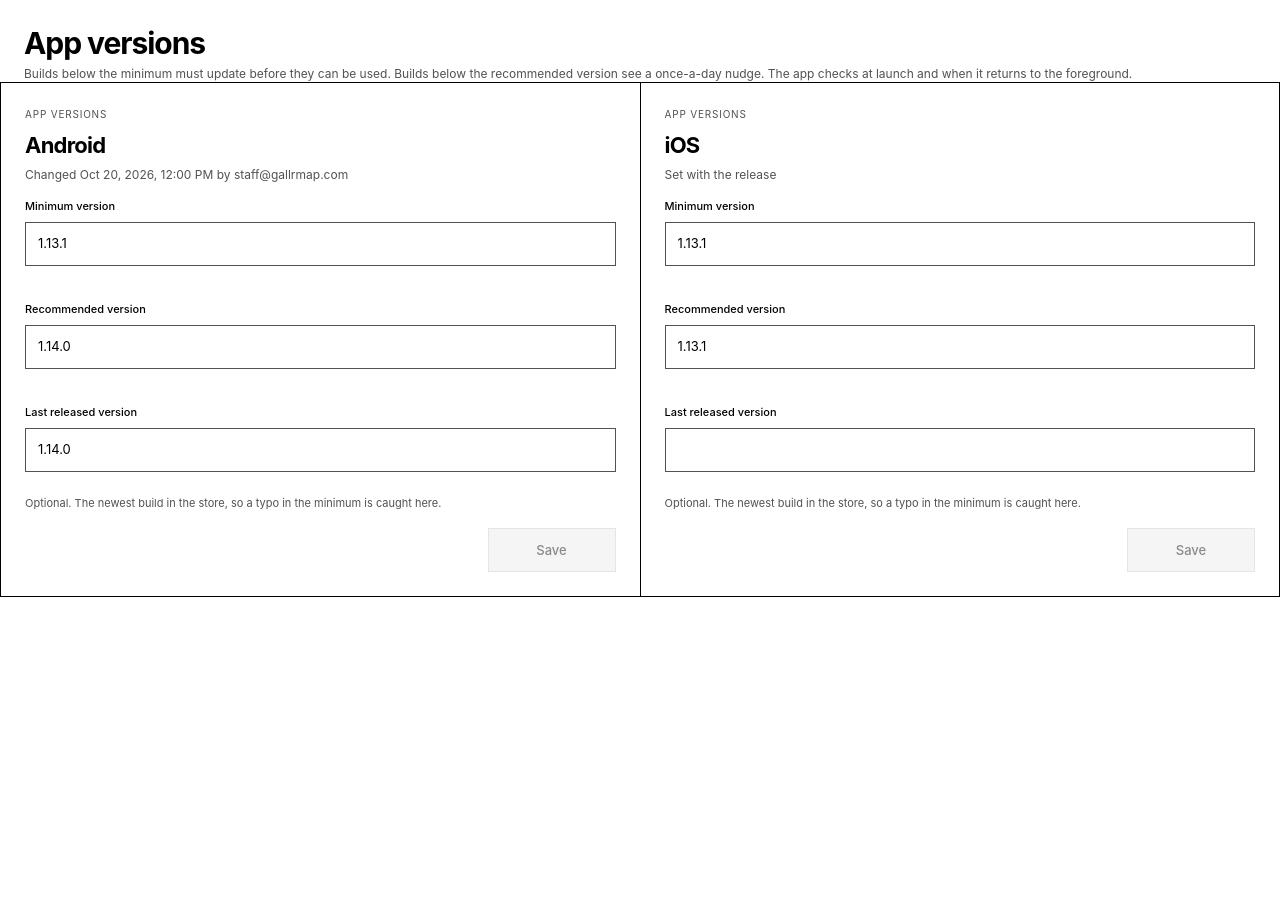
it: AppVersionsWorkspace › shows the server's refusal and keeps the typed values
This screenshot has width=1280, height=900.
Replace the text in the field labelled "Recommended version" below "Android" with "1.16.0": (320, 347) [25,325,616,369]
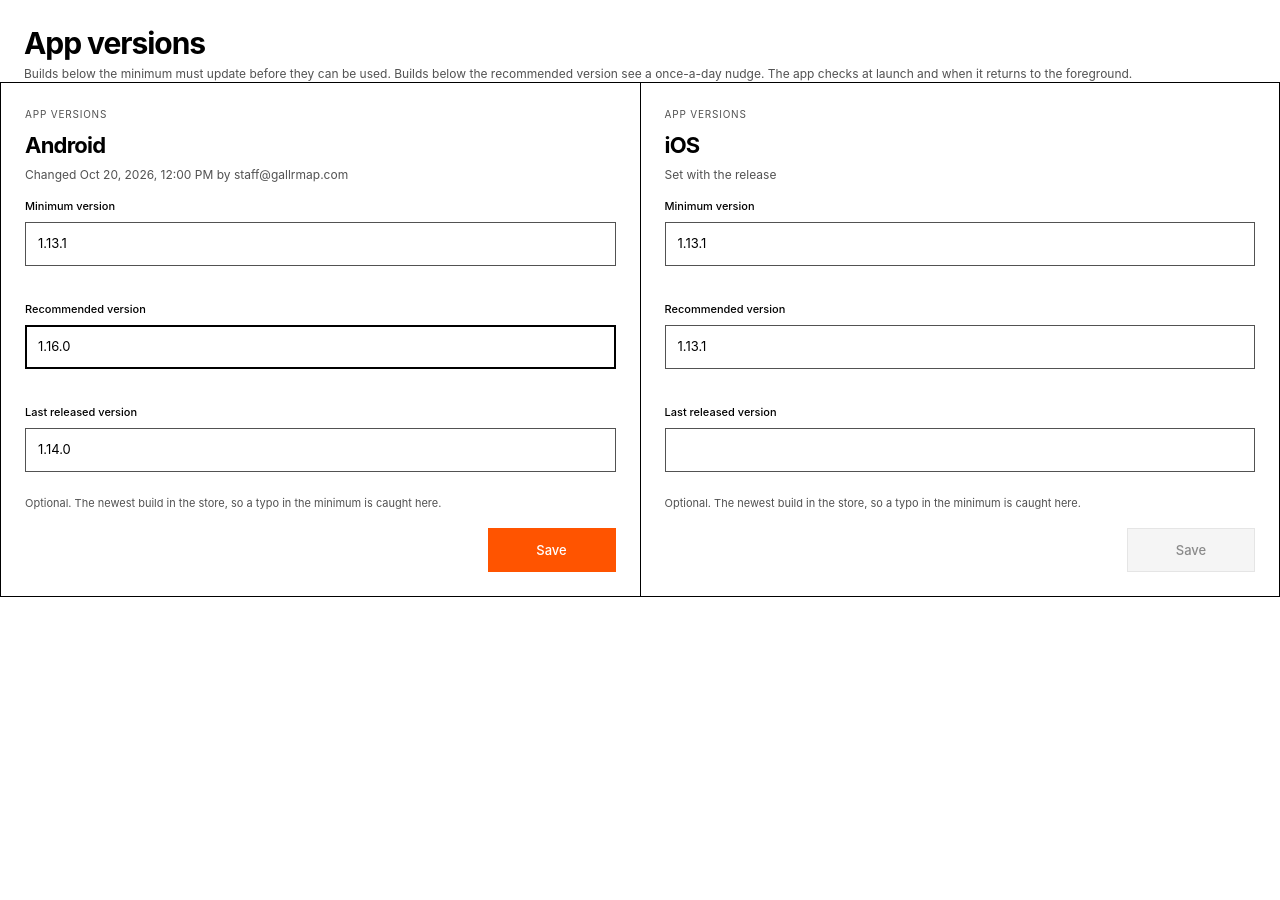
Click the 1st button "Save": (552, 550) [488,528,616,572]
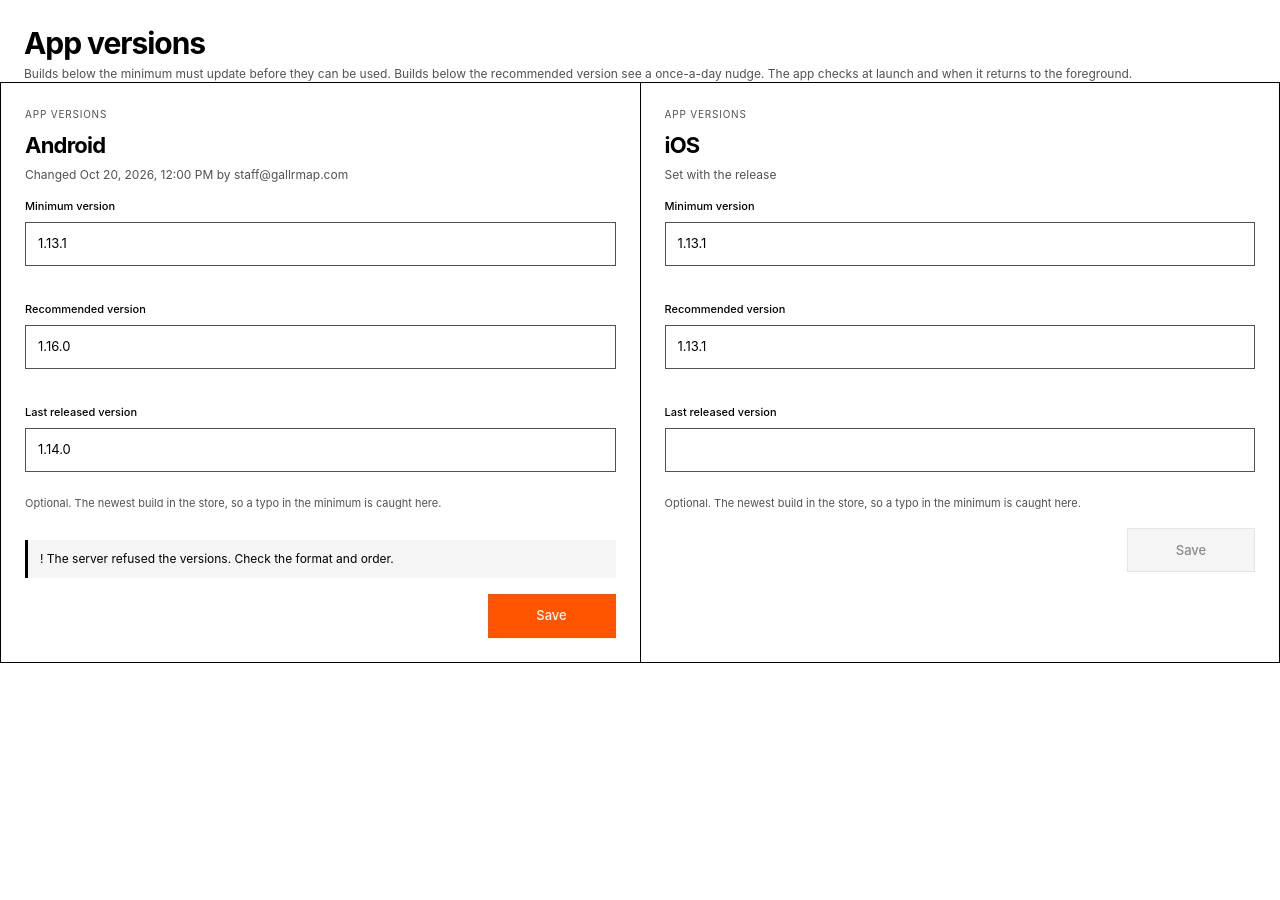
Expected: the message shows "The server refused the versions. Check the format and order.", [47,551,394,566]
